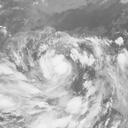cyclone: (37, 52, 73, 83)
